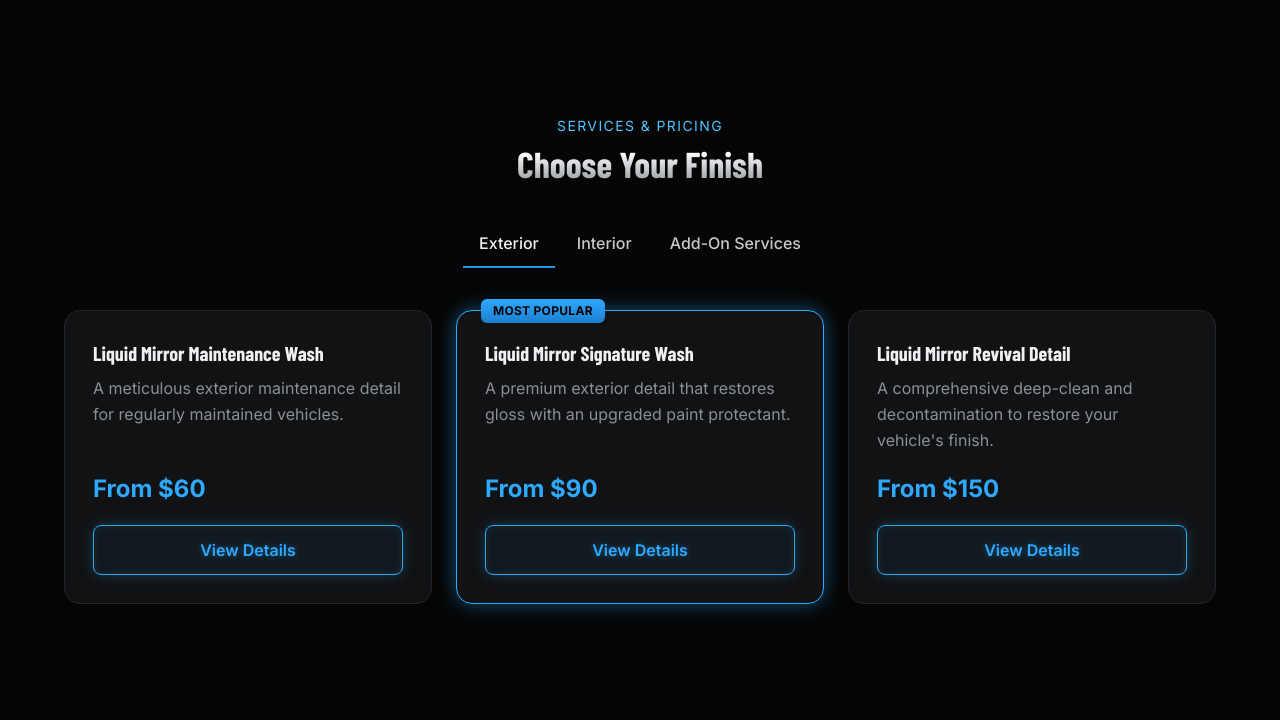
it: ServicesSection › switches to add-on services and shows the excessive condition notice
Click the tab "Add-On Services" at (735, 243), box [670,233,801,253]
(page scrolled)
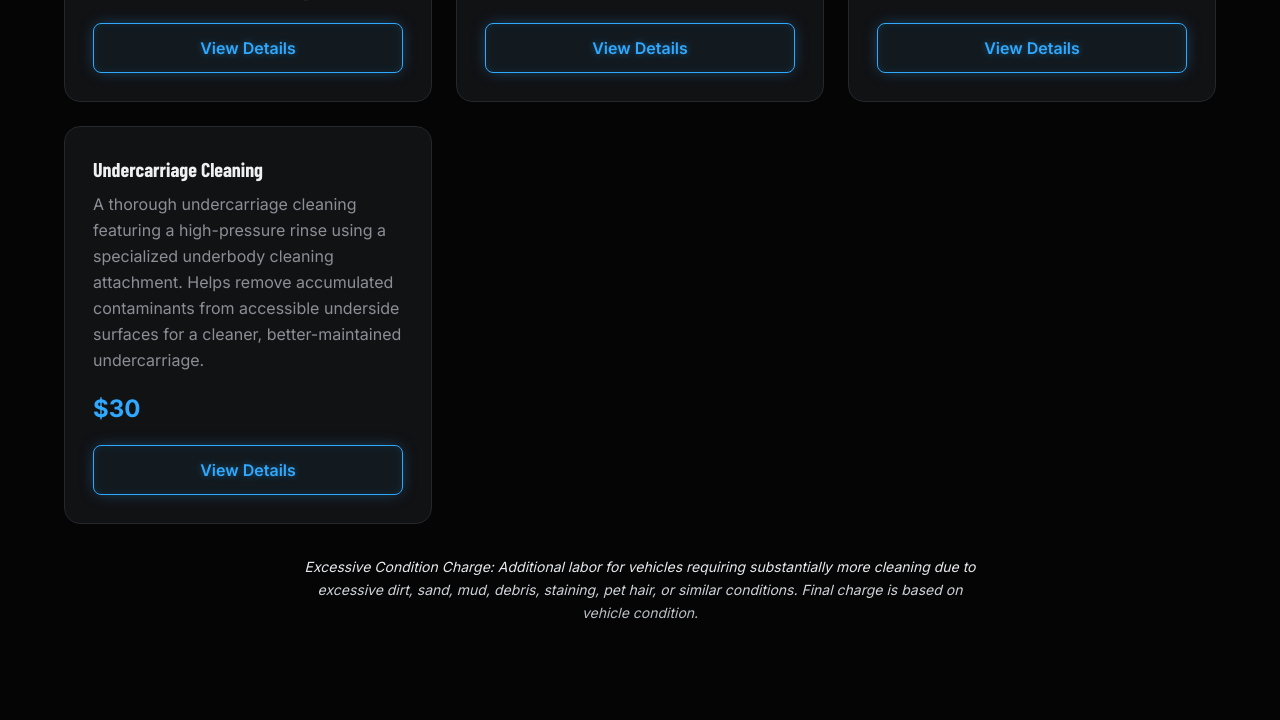
Now the text "Excessive Condition Charge" is shown, box [304,558,976,620]
